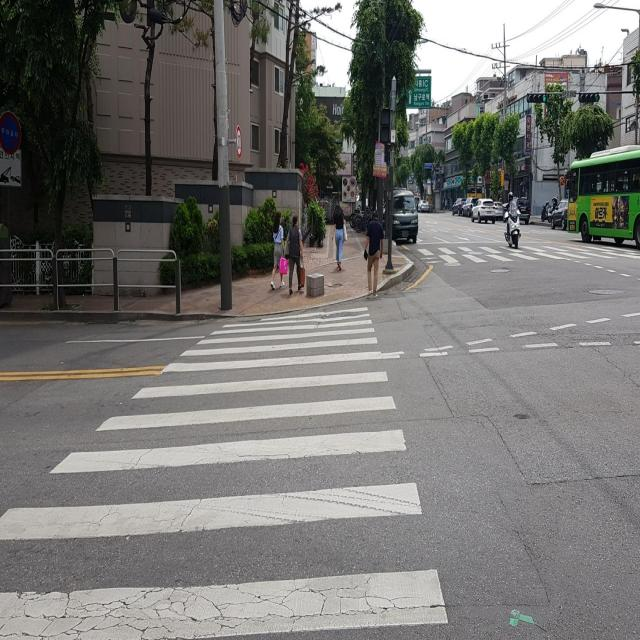횡단보도: (0, 302, 452, 639), (408, 247, 640, 266)
